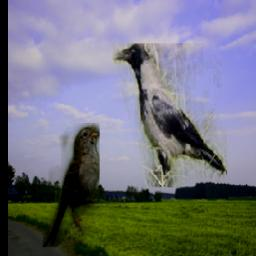Crow: (114, 43, 228, 187)
Sparrow: (44, 123, 101, 247)
